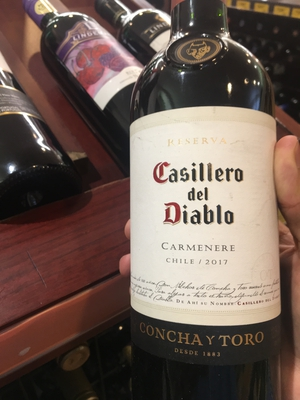casillero del diablo carmenere: (119, 5, 293, 399)
